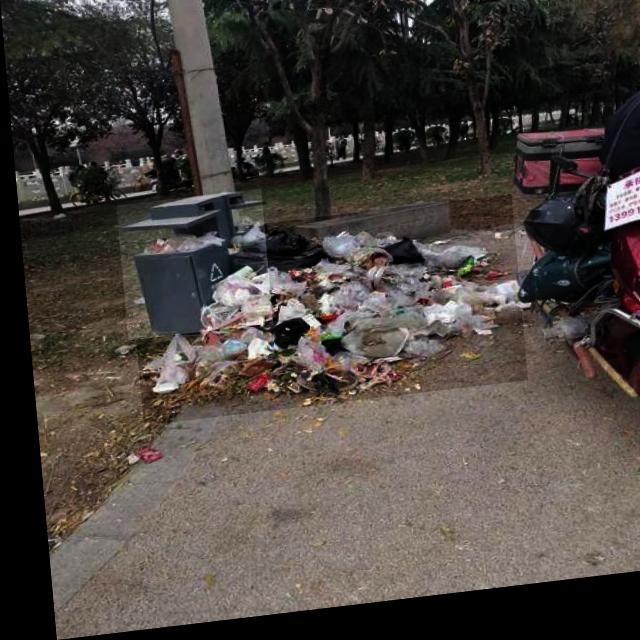garbage: (123, 206, 520, 428)
overflow: (112, 194, 267, 343)
